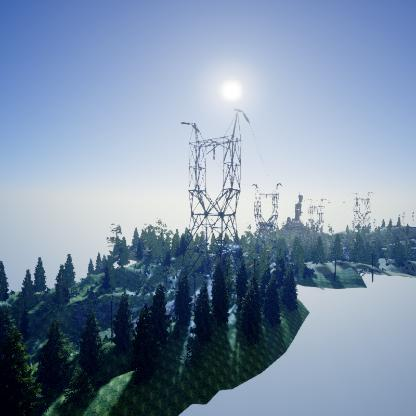tower: (178, 107, 249, 275), (252, 179, 284, 238)
